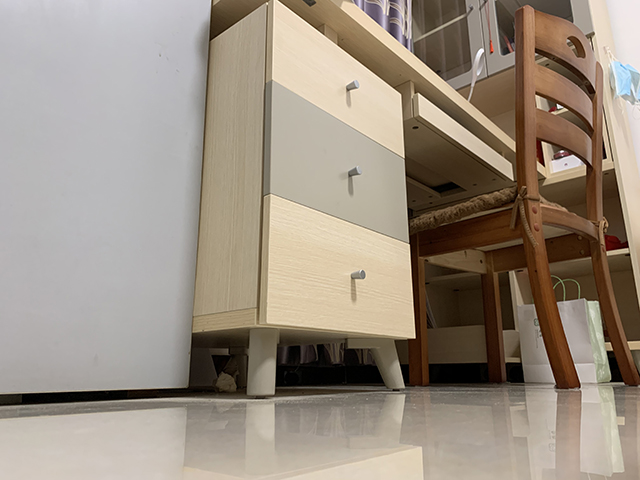stool: (408, 1, 640, 389)
table: (184, 1, 640, 399)
